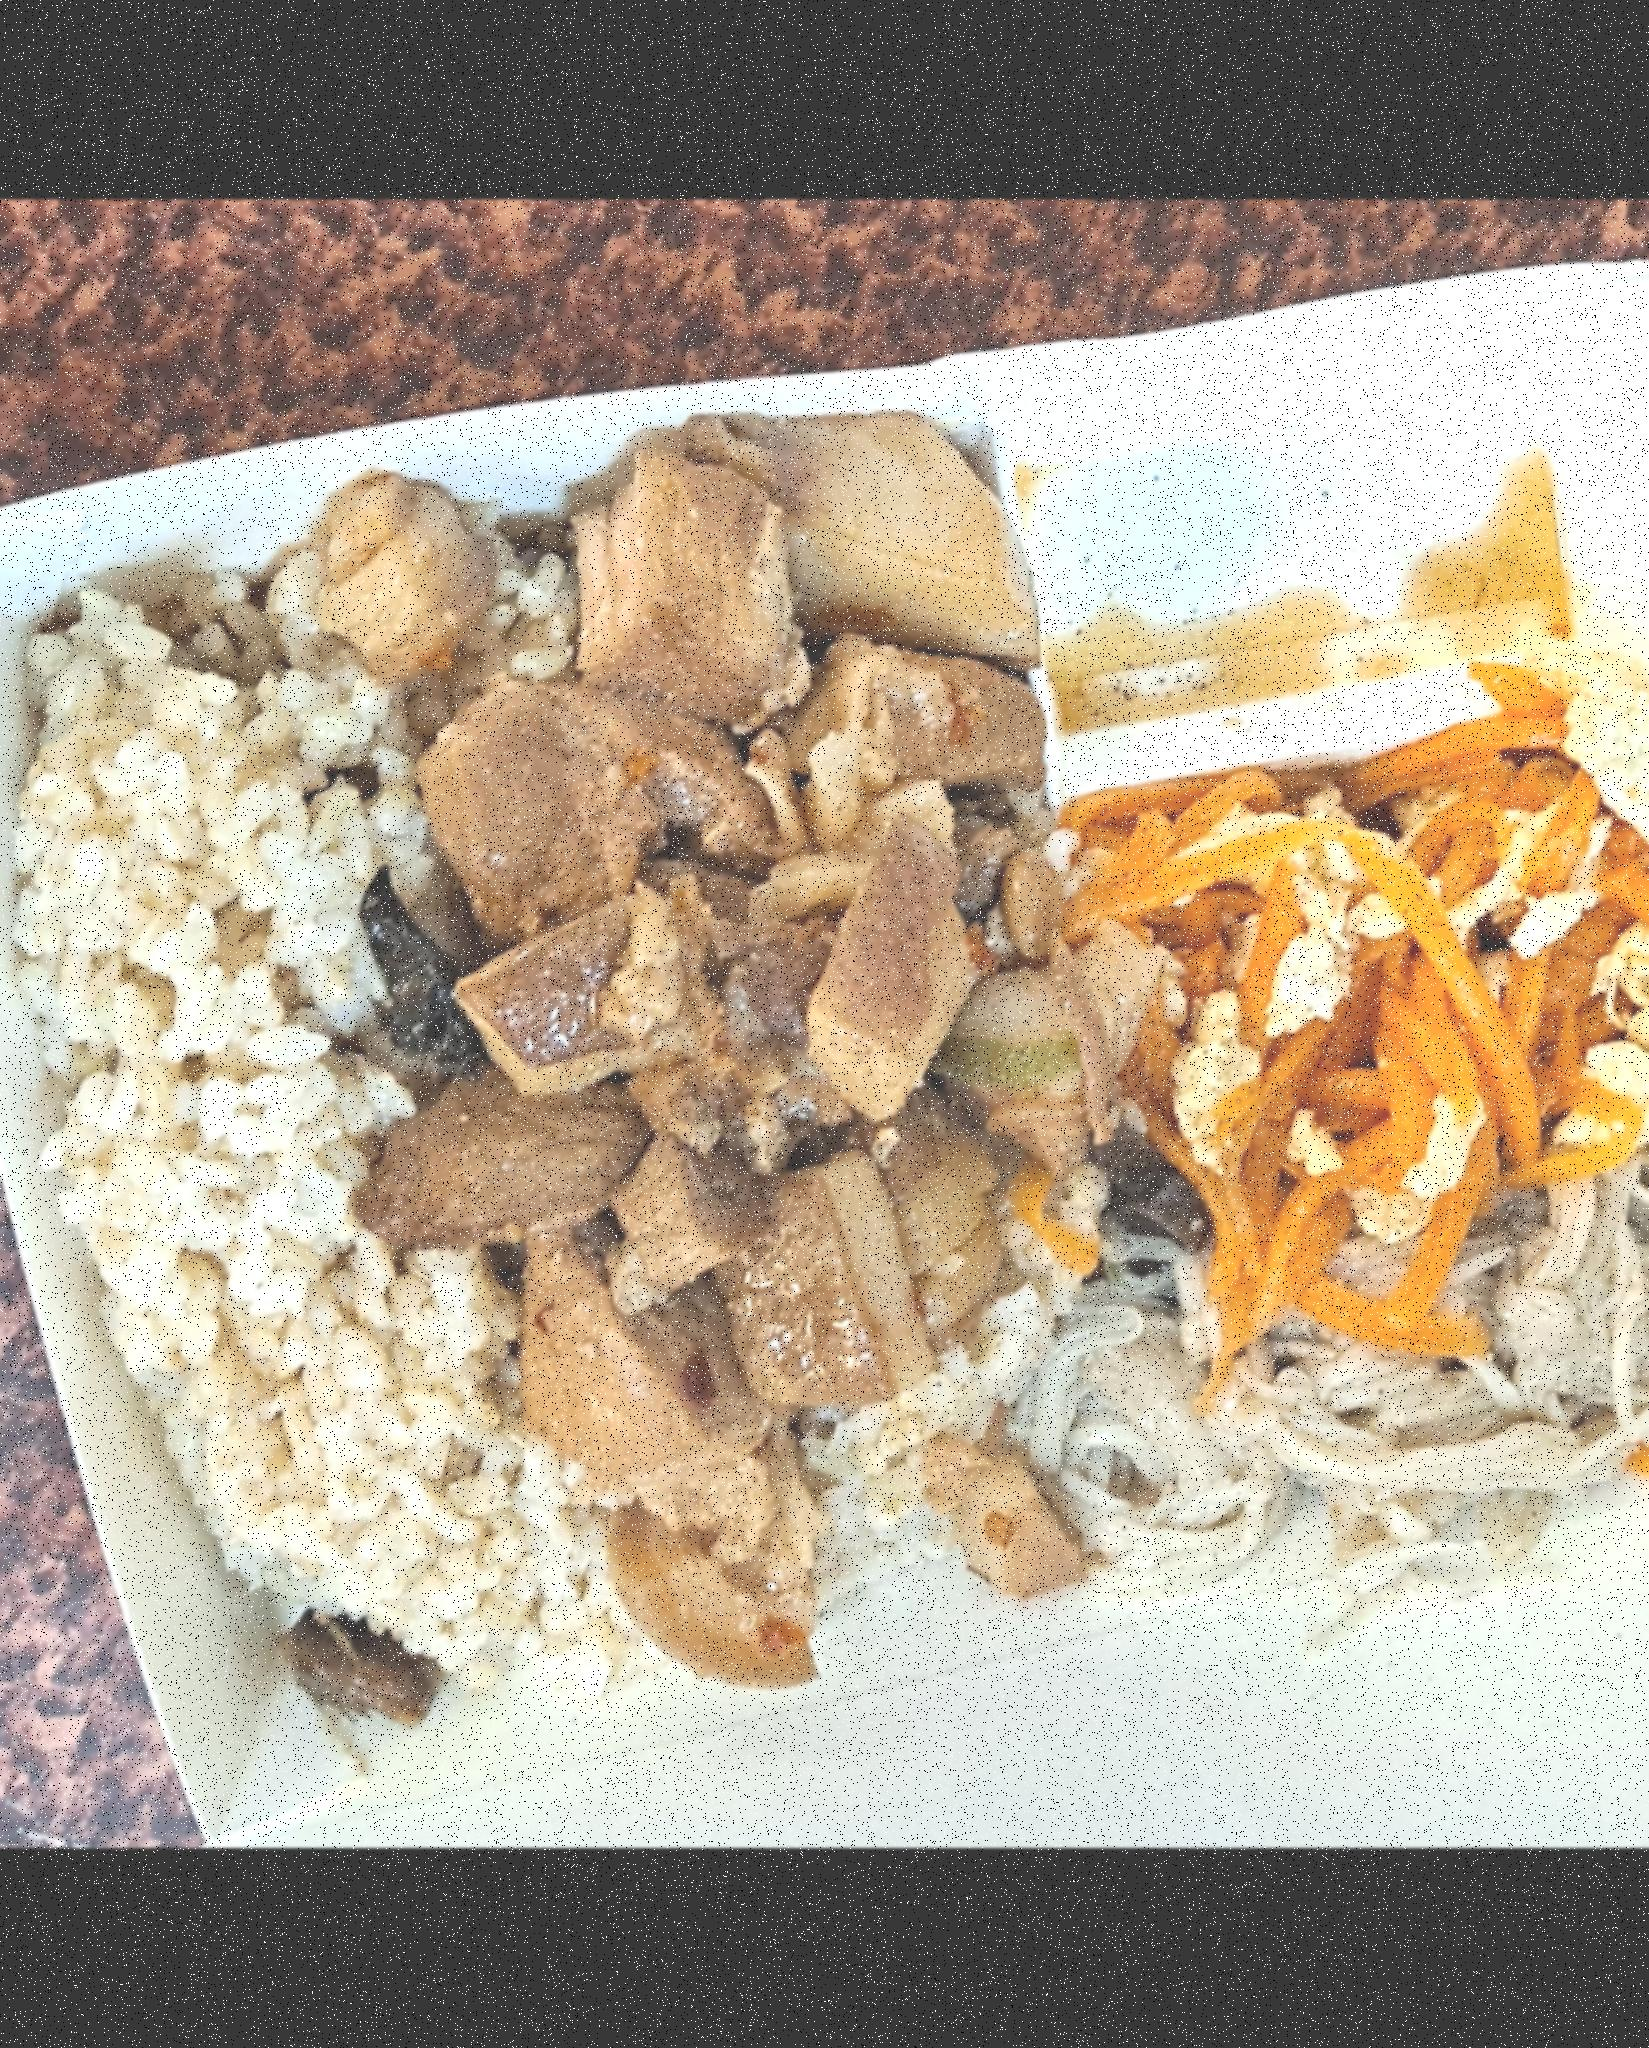big grilled chicken leg: (0, 254, 1649, 1823)
box: (20, 557, 1048, 1678)
braised fish fillet: (1067, 671, 1649, 1311), (1031, 1121, 1649, 1610)
braised pork: (310, 390, 1107, 1698)
